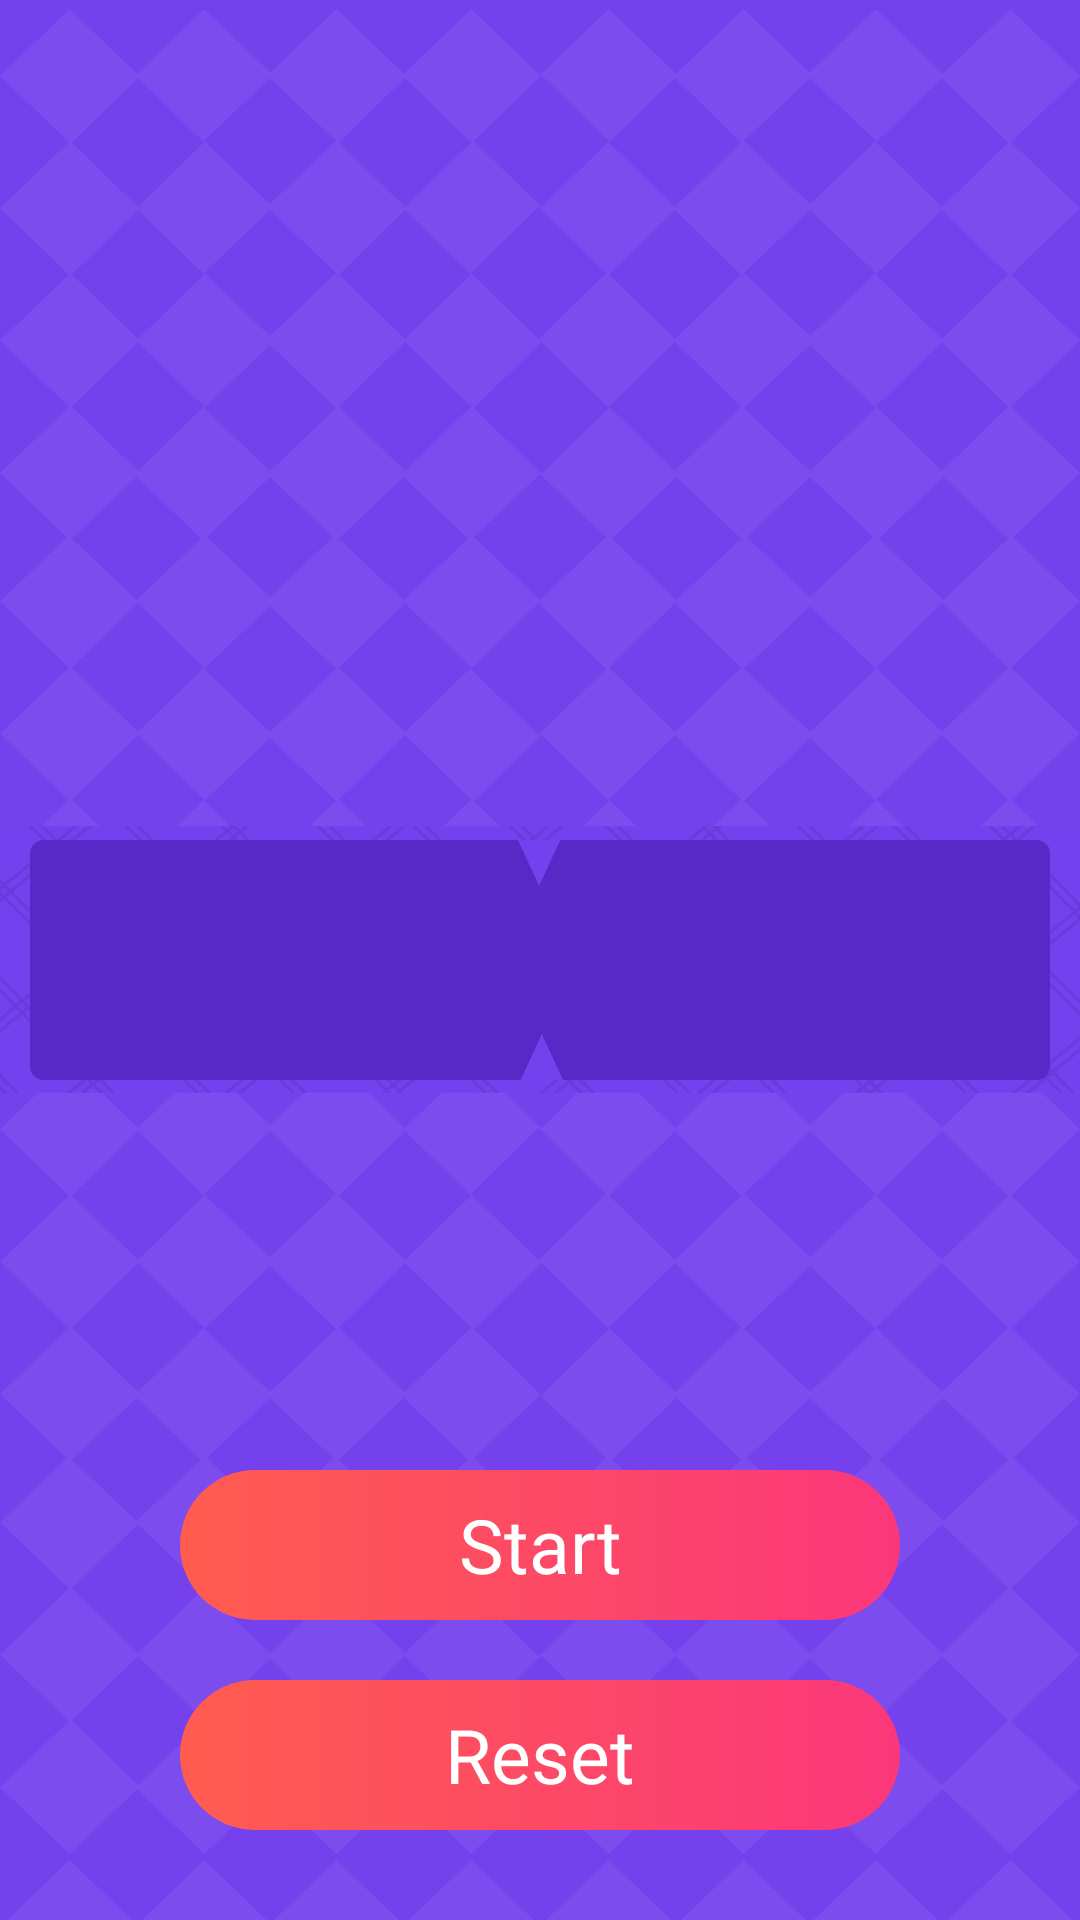

Named icons in this screenshot (1080px x 1920px) and their bounding boxes, bbox=[x1, y1, x2, y2]:
arrows bottom: bbox=[521, 1035, 563, 1080]
arrows top: bbox=[518, 840, 560, 885]
